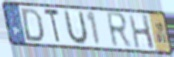1: (86, 10, 101, 48)
D: (20, 7, 45, 43)
H: (127, 14, 156, 52)
R: (104, 11, 134, 50)
T: (43, 8, 61, 45)
U: (63, 9, 90, 47)
